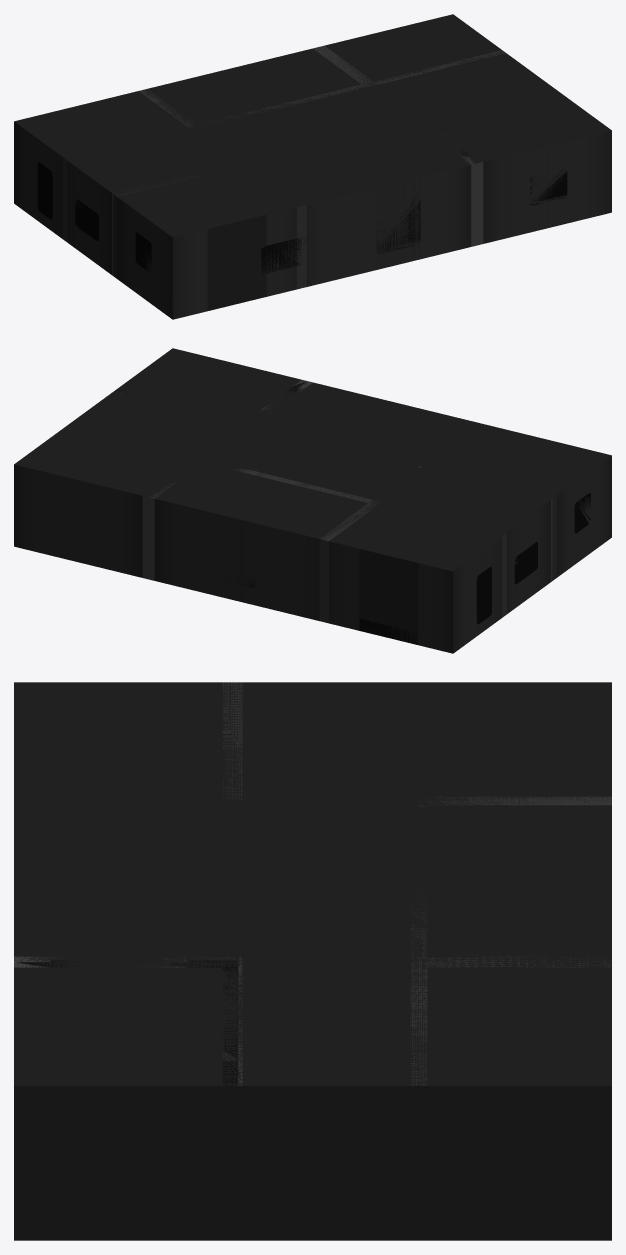
Rendered from escenario.obj.
3 renders of one model, top to bottom at view 1: azimuth 30°, elevation 25°; view 2: azimuth 150°, elevation 25°; view 3: azimuth 270°, elevation 25°, orthographic. The views are drawn at different scales.
Visible parts, largest first — view 1: Plane, Cube.008, Cube.007, Cube.006, Cube.001, Cube.005, Cube.003; view 2: Plane, Cube.006, Cube.016, Cube.001, Cube.003; view 3: Plane.
Boxes of the visible parts, bbox=[...] form: Plane: bbox=[14, 14, 611, 319]; Cube.008: bbox=[261, 237, 305, 273]; Cube.007: bbox=[376, 197, 420, 253]; Cube.006: bbox=[37, 162, 52, 219]; Cube.001: bbox=[75, 199, 98, 241]; Cube.005: bbox=[530, 168, 567, 205]; Cube.003: bbox=[135, 232, 151, 272]; Plane: bbox=[14, 348, 611, 653]; Cube.006: bbox=[476, 566, 491, 624]; Cube.016: bbox=[359, 619, 417, 644]; Cube.001: bbox=[514, 542, 537, 584]; Cube.003: bbox=[574, 493, 590, 533]; Plane: bbox=[14, 682, 611, 1240].
Size of the model in its own units: 40.97 by 7.33 by 25.66.
18 materials, 18 textured.
